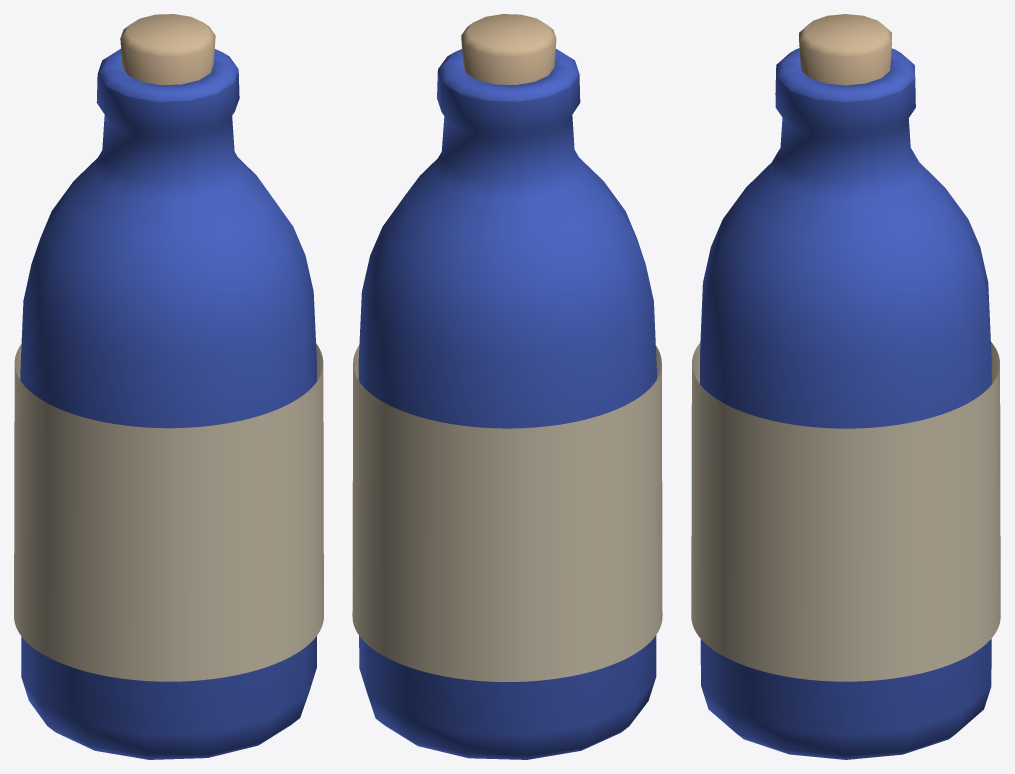
Rendered from v2_apothecary_tonic_minimal.glb.
3 views of the same model, side by side, from view 1: azimuth 30°, elevation 25°; view 2: azimuth 150°, elevation 25°; view 3: azimuth 270°, elevation 25° (orthographic).
Visible parts, largest first — view 1: Glass, Label_band, Cap; view 2: Glass, Label_band, Cap; view 3: Glass, Label_band, Cap.
Part boxes in pixels (bbox=[...]): Glass: bbox=[20, 49, 316, 759]; Label_band: bbox=[14, 343, 323, 681]; Cap: bbox=[120, 14, 215, 85]; Glass: bbox=[358, 48, 656, 759]; Label_band: bbox=[352, 345, 662, 681]; Cap: bbox=[461, 14, 556, 84]; Glass: bbox=[700, 48, 991, 759]; Label_band: bbox=[691, 342, 1000, 681]; Cap: bbox=[799, 14, 891, 85].
Bounding box in the file's own units: 0.0488 × 0.1177 × 0.0488.
